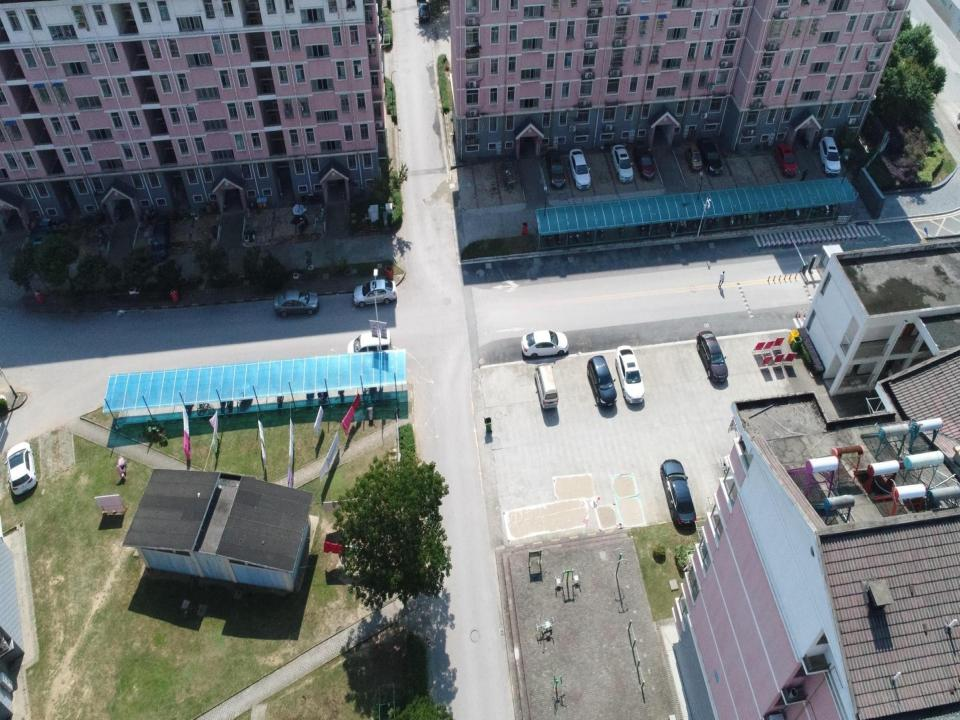car: (660, 454, 697, 530), (615, 344, 645, 404), (586, 354, 618, 408), (6, 442, 38, 496), (696, 328, 727, 383), (521, 330, 569, 357), (352, 278, 397, 306), (272, 289, 318, 316), (348, 329, 391, 354), (817, 135, 841, 176), (698, 135, 722, 175), (568, 148, 591, 188), (611, 144, 634, 183), (544, 150, 566, 189), (774, 143, 798, 178), (151, 217, 169, 259), (635, 144, 656, 180), (34, 226, 50, 251)
van: (534, 362, 558, 409), (685, 144, 702, 172)
